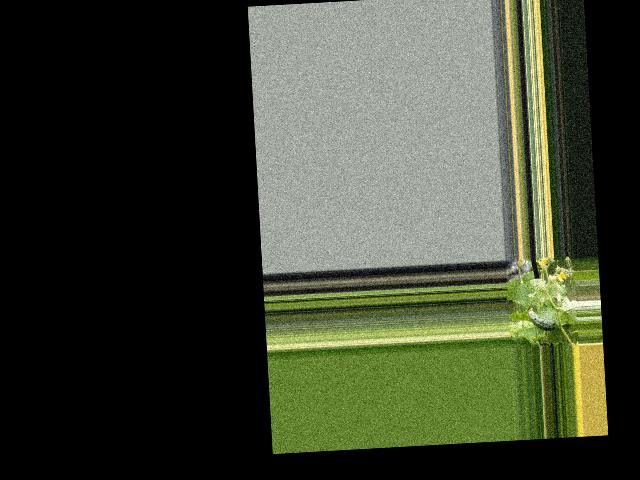cucumber: (527, 305, 557, 331)
